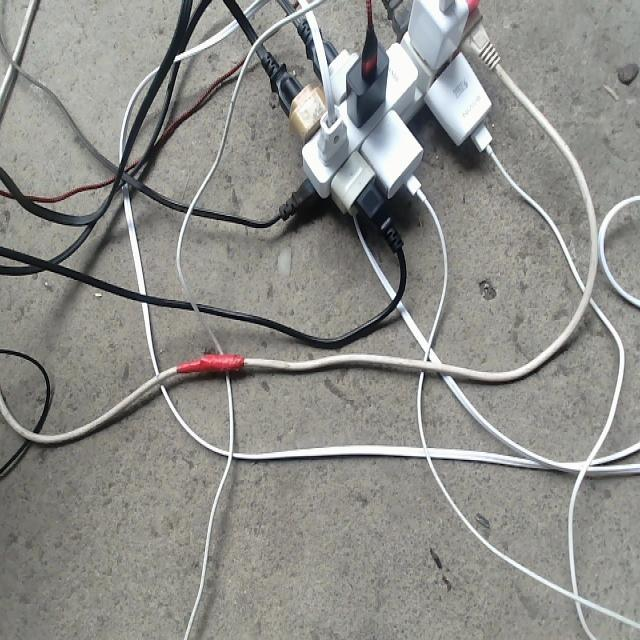-: (267, 0, 502, 231)
